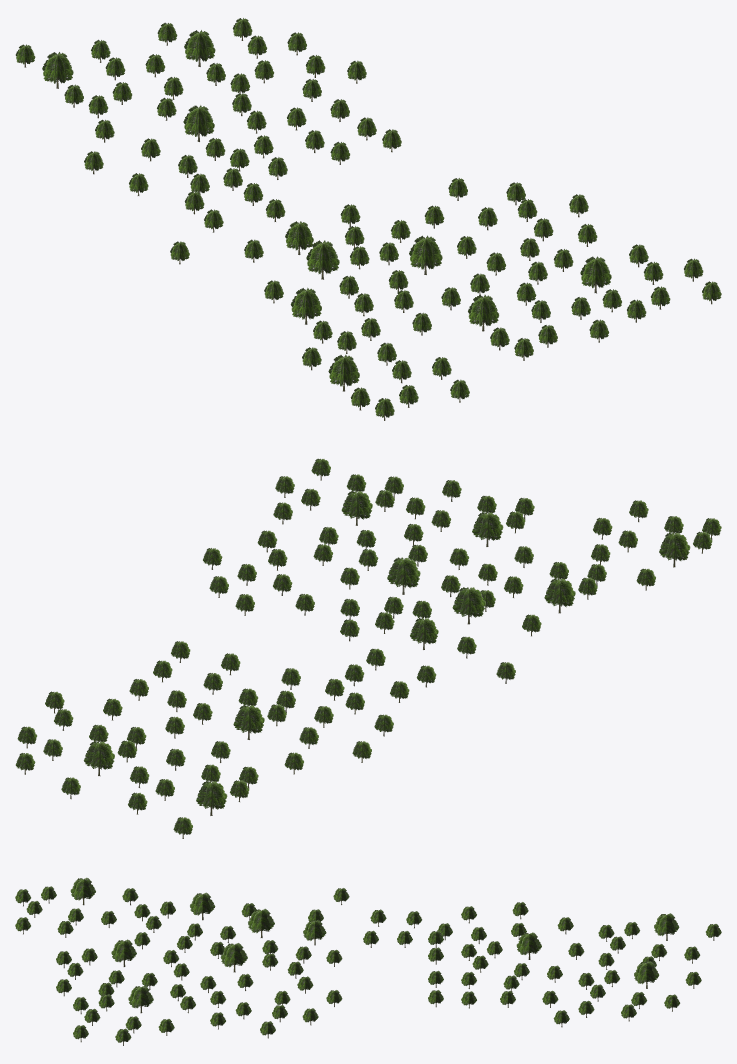
The model's file is Arboles.fbx.
3 views of the same model, one above another, from view 1: azimuth 30°, elevation 25°; view 2: azimuth 150°, elevation 25°; view 3: azimuth 270°, elevation 25° (orthographic). The views are drawn at different scales.
Parts seen in each view (by area): view 1: Plane.045; view 2: Plane.045; view 3: Plane.045.
Boxes of the visible parts, x1=… form: Plane.045: x1=15, y1=18, x2=721, y2=420; Plane.045: x1=15, y1=458, x2=721, y2=838; Plane.045: x1=15, y1=877, x2=721, y2=1045.
Size of the model in its own units: 8823 by 936 by 17616.
456 materials, 456 textured.
